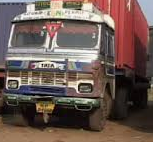truck: (4, 1, 150, 133)
